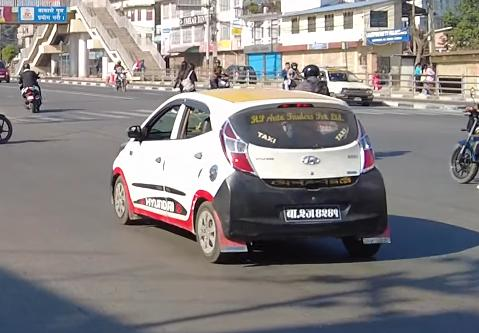taxi: (99, 82, 394, 270)
